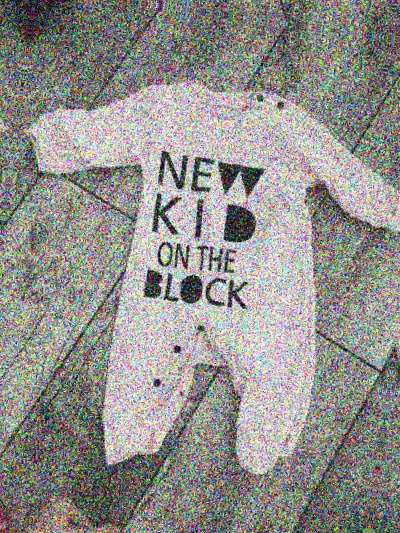Body: (0, 44, 400, 505), (373, 100, 400, 533), (0, 0, 22, 447)
